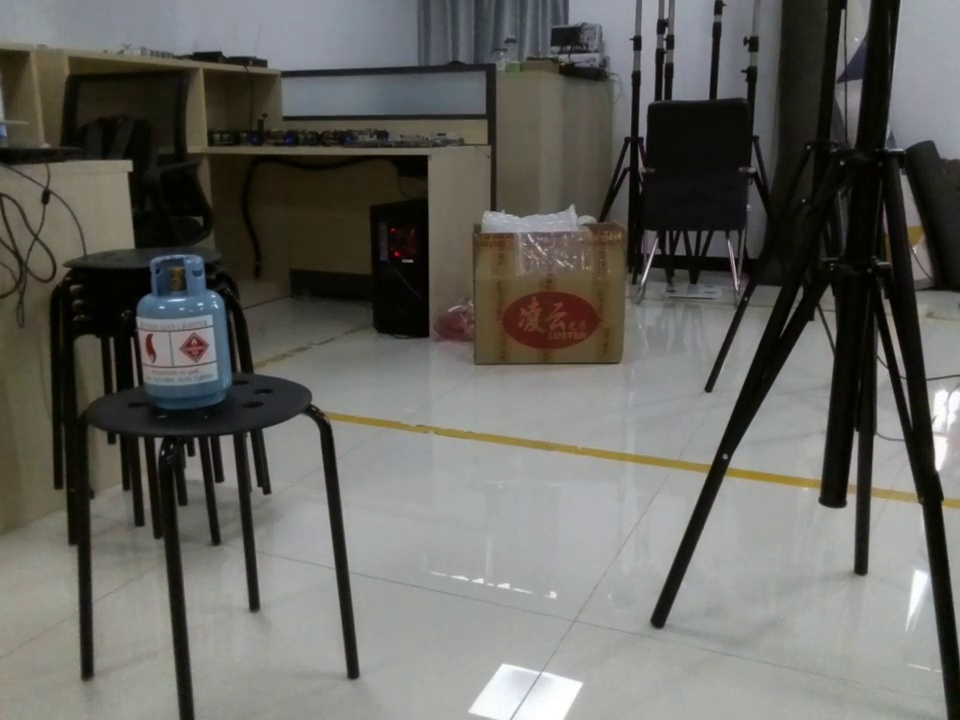gas tank: (125, 248, 251, 416)
